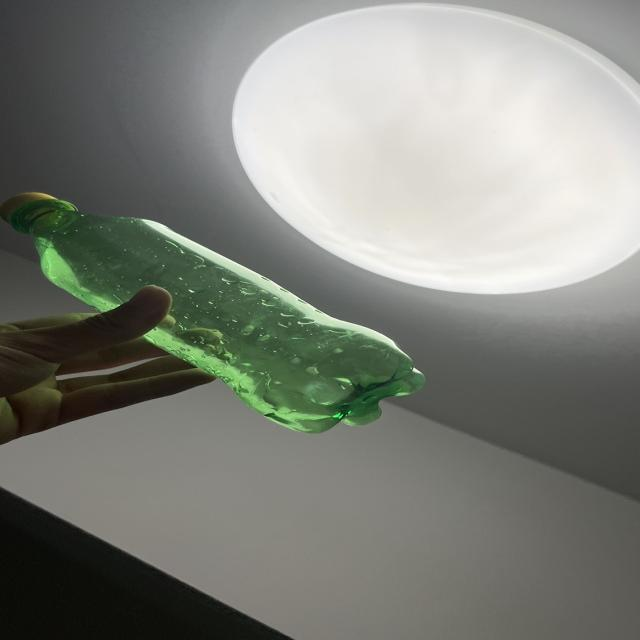empty: (3, 194, 423, 433)
